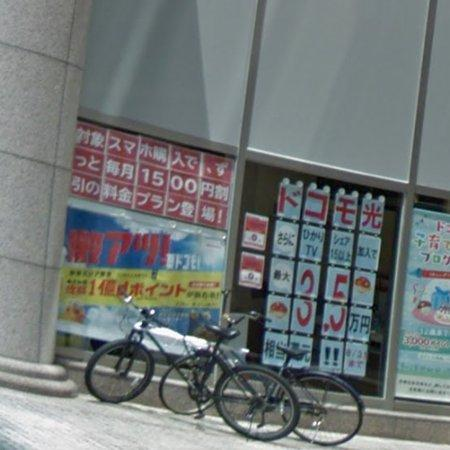bicycles: (279, 346, 366, 446), (85, 310, 168, 404), (160, 351, 273, 415), (211, 366, 300, 441)
